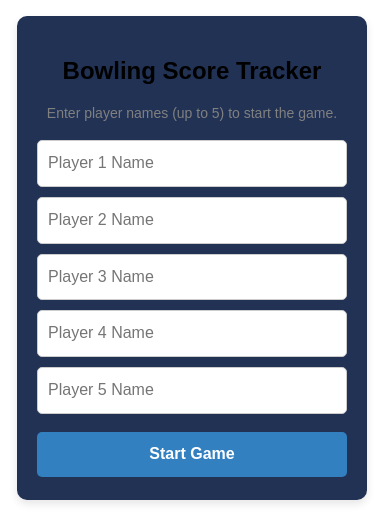
Welcome Component › Should enable the start button when a player name is entered
Expected: the button "Start Game" is disabled, [37,432,347,477]
Type "John" into the field with placeholder "Player 1 Name" at (192, 163), box [37,140,347,187]
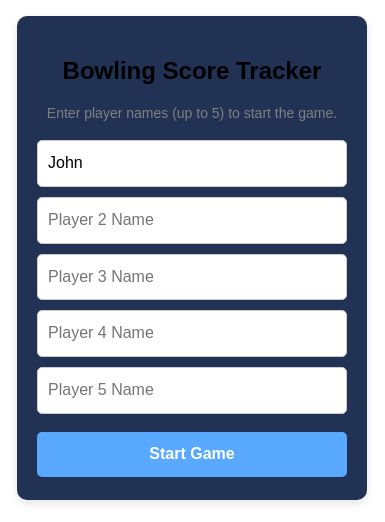
Expected: the button "Start Game" is enabled, [37,432,347,477]
